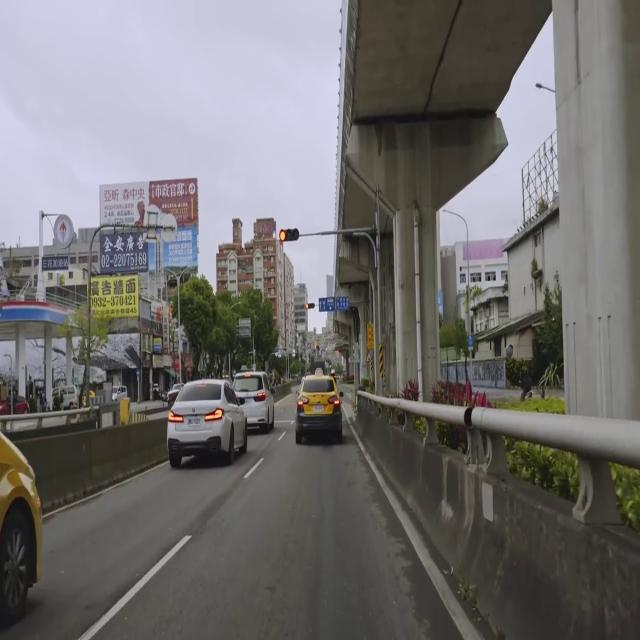red light: (279, 229, 300, 241), (305, 302, 315, 310)
